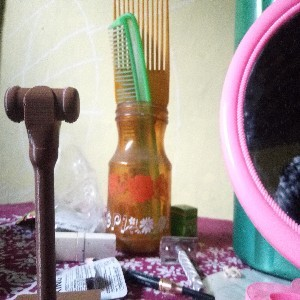palu: (3, 84, 81, 300)
